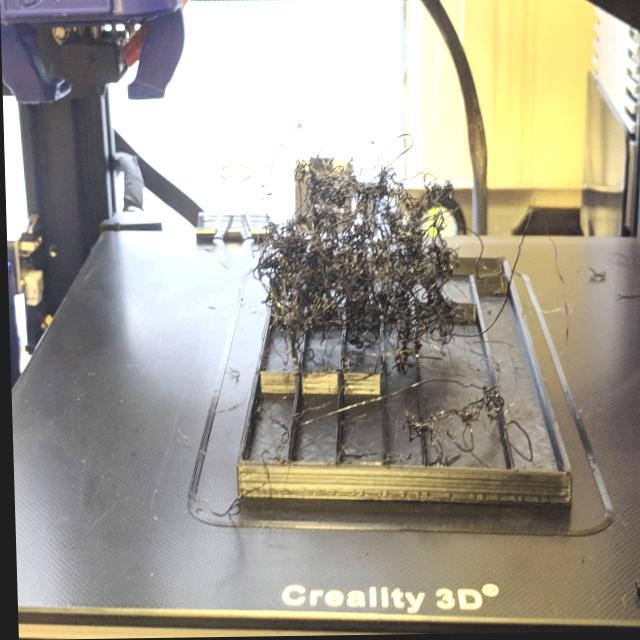spaghetti: (253, 135, 510, 373), (390, 383, 549, 490)
